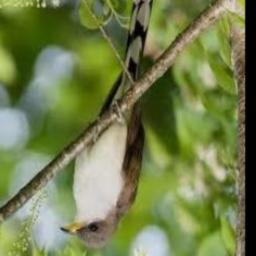Cuckoo: (60, 0, 154, 247)
